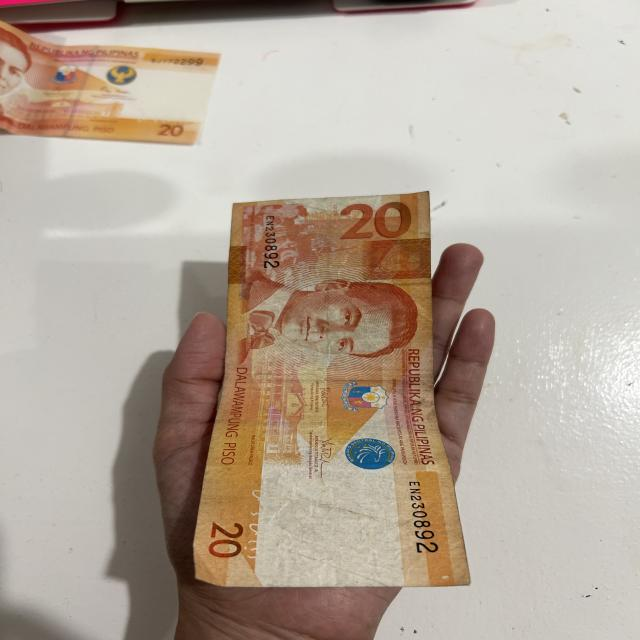concealed_value: (361, 239, 431, 279)
security_thread: (228, 365, 432, 394)
see_through_mark: (242, 476, 271, 564)
serial_number: (402, 477, 445, 558), (256, 212, 288, 276)
value: (338, 198, 414, 240)
watermark: (273, 477, 397, 582)
